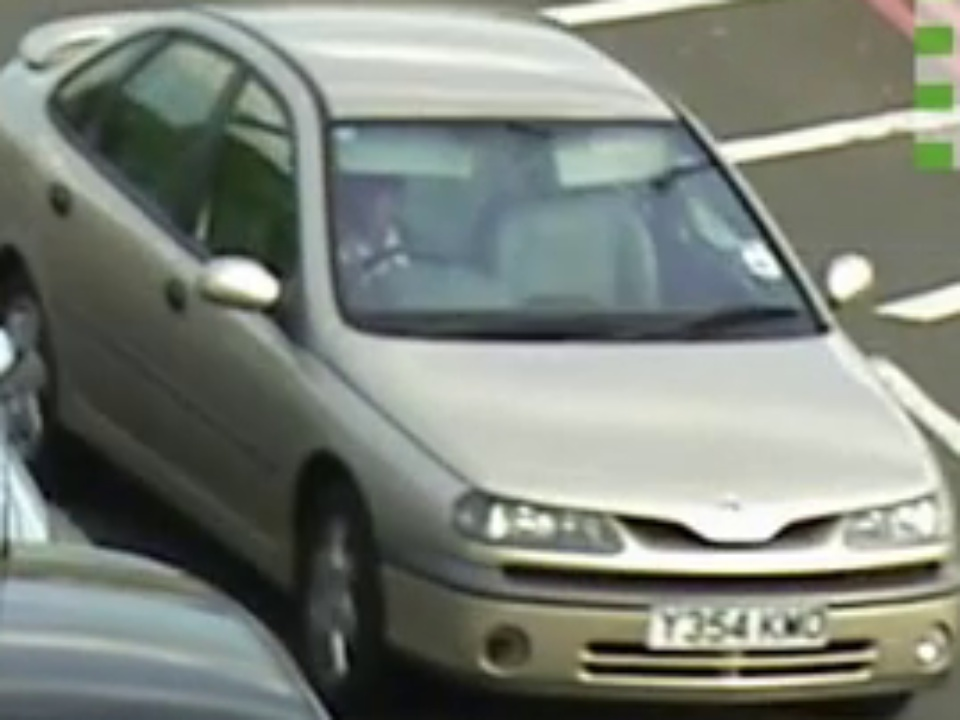ONE: (319, 124, 790, 334)
